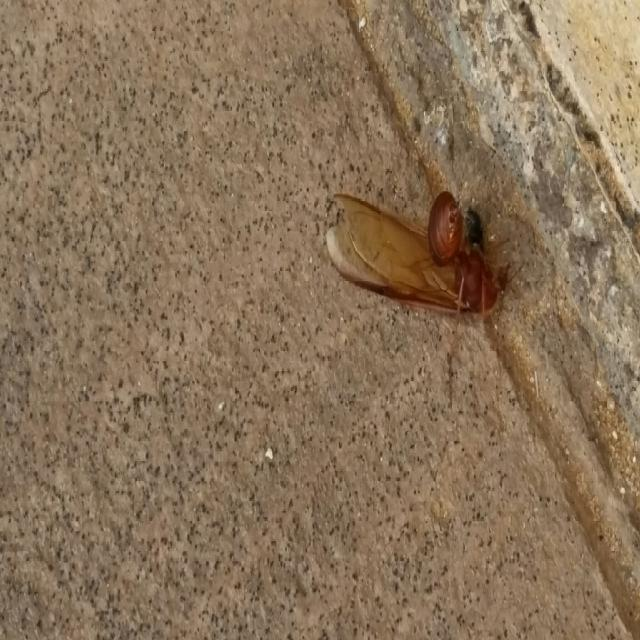Dead-Male-Alate: (325, 119, 526, 333)
